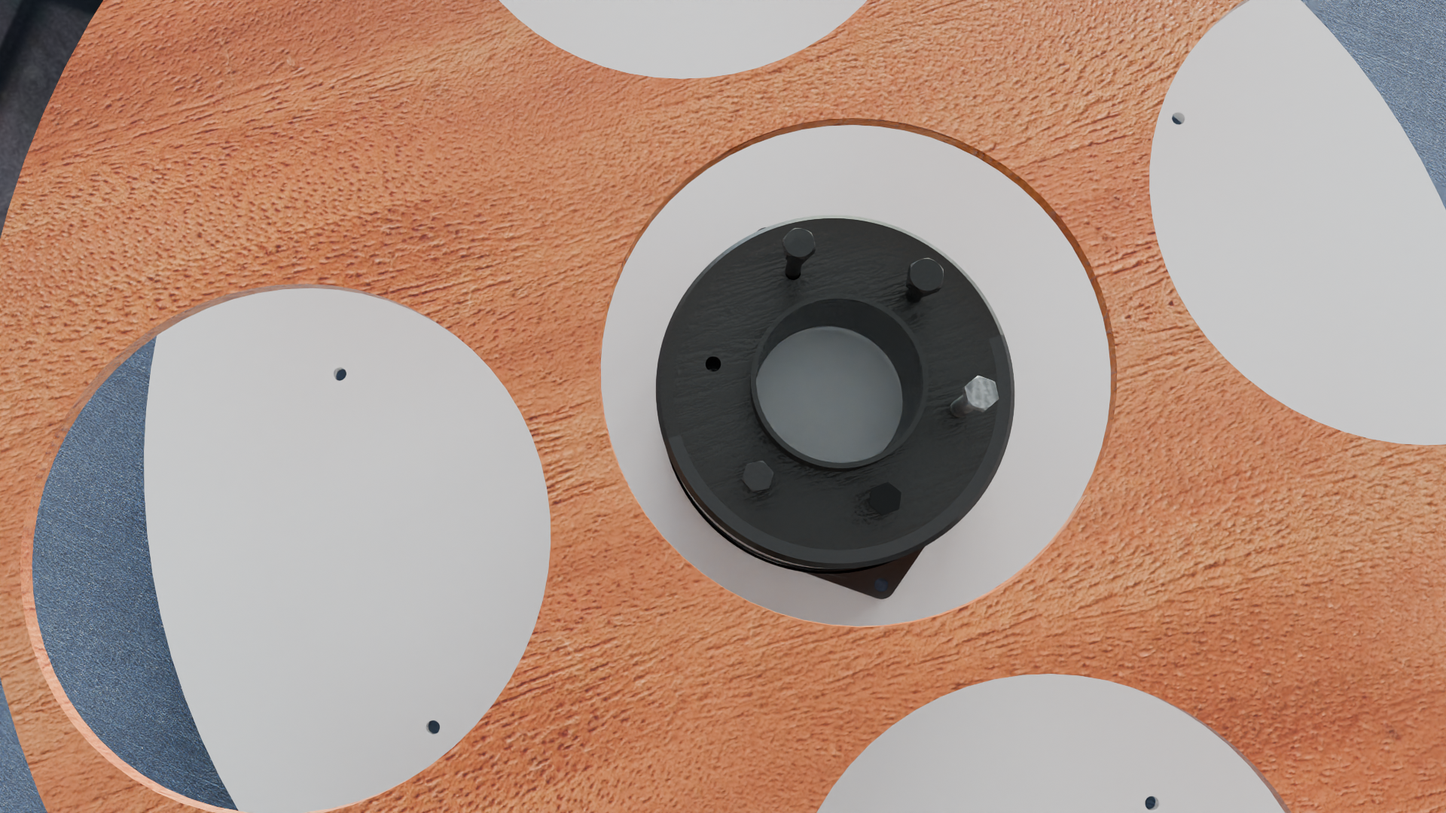bolt: (908, 257, 944, 294), (965, 376, 999, 410), (782, 228, 816, 260), (870, 482, 901, 515), (742, 461, 773, 492)
